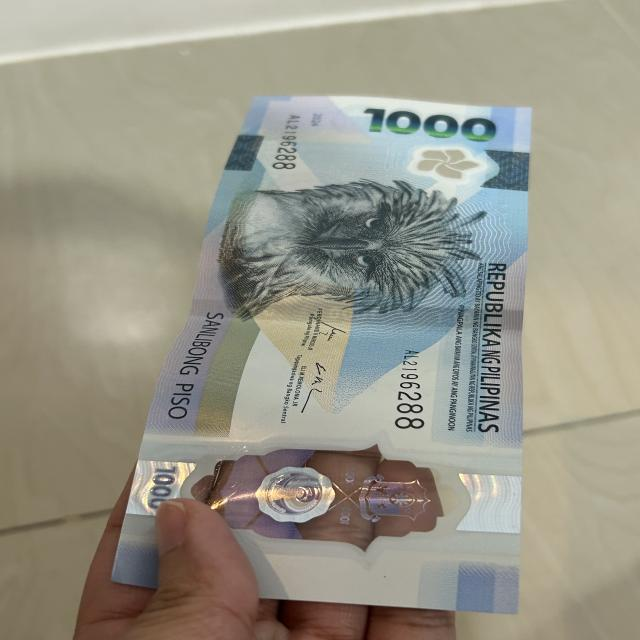clear_window: (150, 443, 497, 548)
eagle: (238, 183, 479, 325)
sampaguita: (411, 146, 477, 182)
serial_number: (394, 343, 432, 436), (270, 109, 314, 175)
